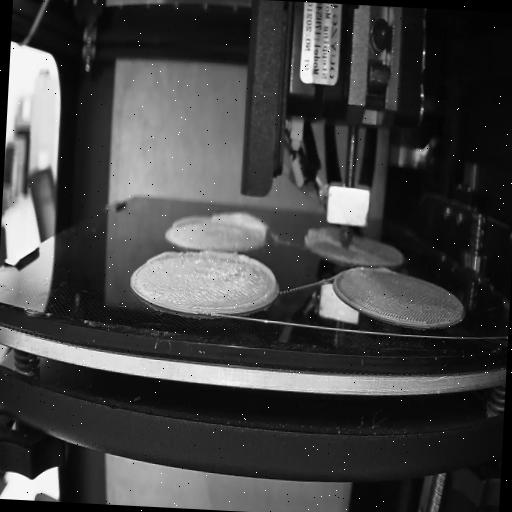over_extrusion: (202, 250, 278, 314), (210, 206, 275, 241), (302, 224, 340, 248), (146, 246, 184, 266), (170, 212, 204, 230), (350, 244, 367, 260), (374, 264, 388, 272)
